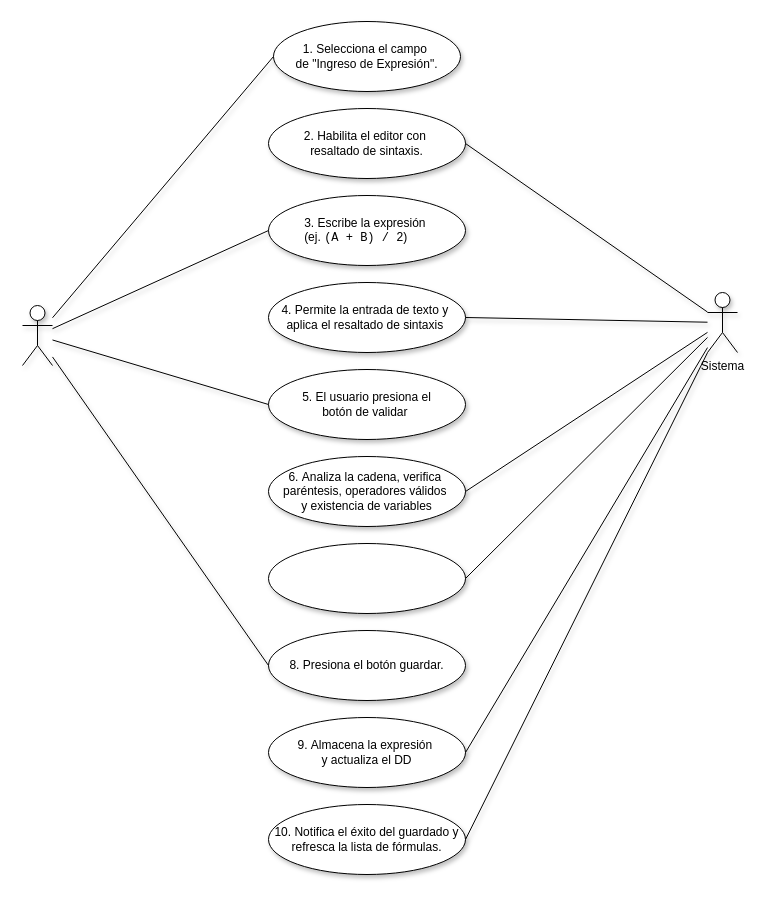
The diagram is 761 pixels wide and 899 high, and some of its shapes have lost their labels. Here are the shapes that lost their labels. From the top down, the centre of each, then its label:
At (38,336): "Usuario".
At (368,579): "7. Confirma que la expresión es correcta y habilita el botón de guardar".
